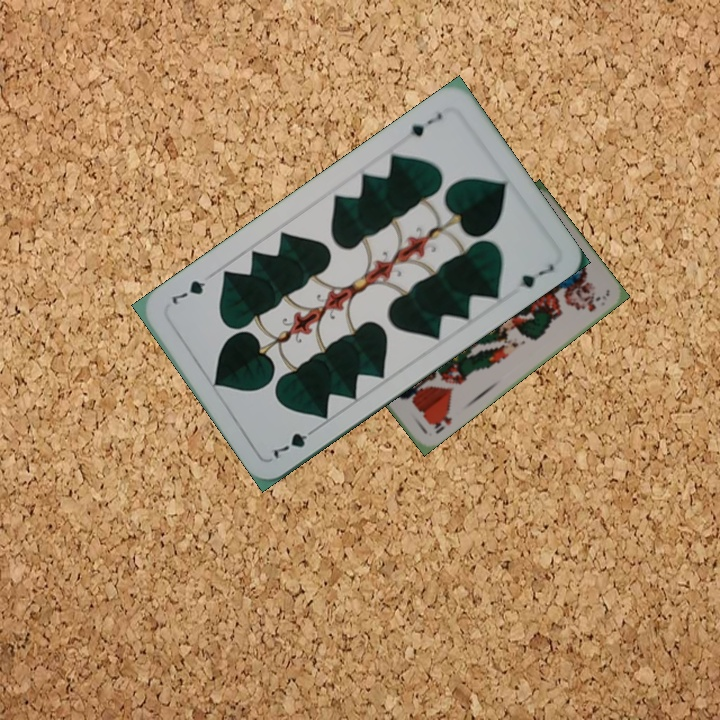G7: (269, 423, 321, 464), (405, 108, 445, 140)
HO: (428, 406, 455, 437)
